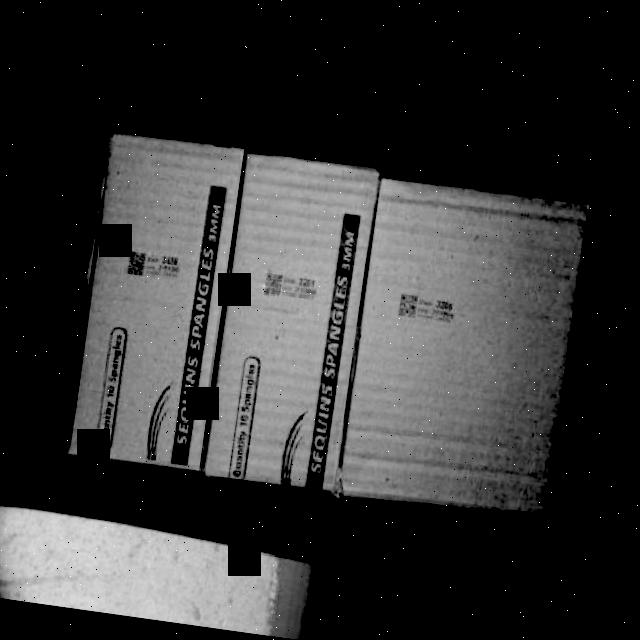box: (340, 178, 592, 524), (70, 130, 246, 471), (207, 157, 381, 490)
